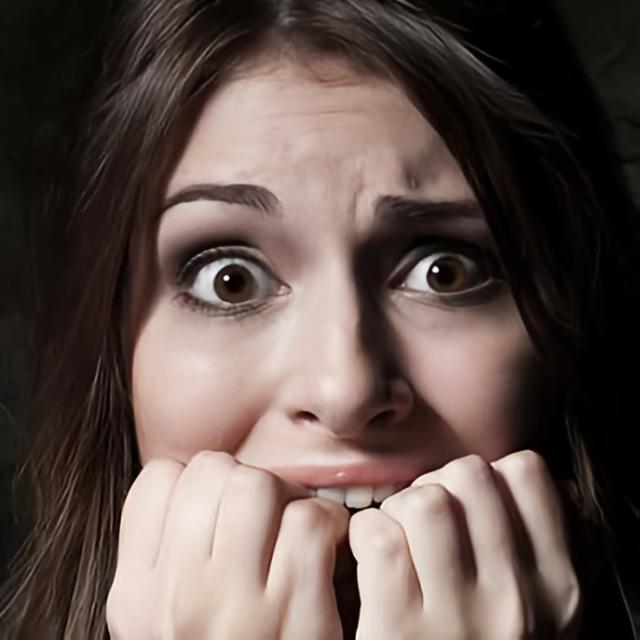fear: (128, 41, 564, 640)
